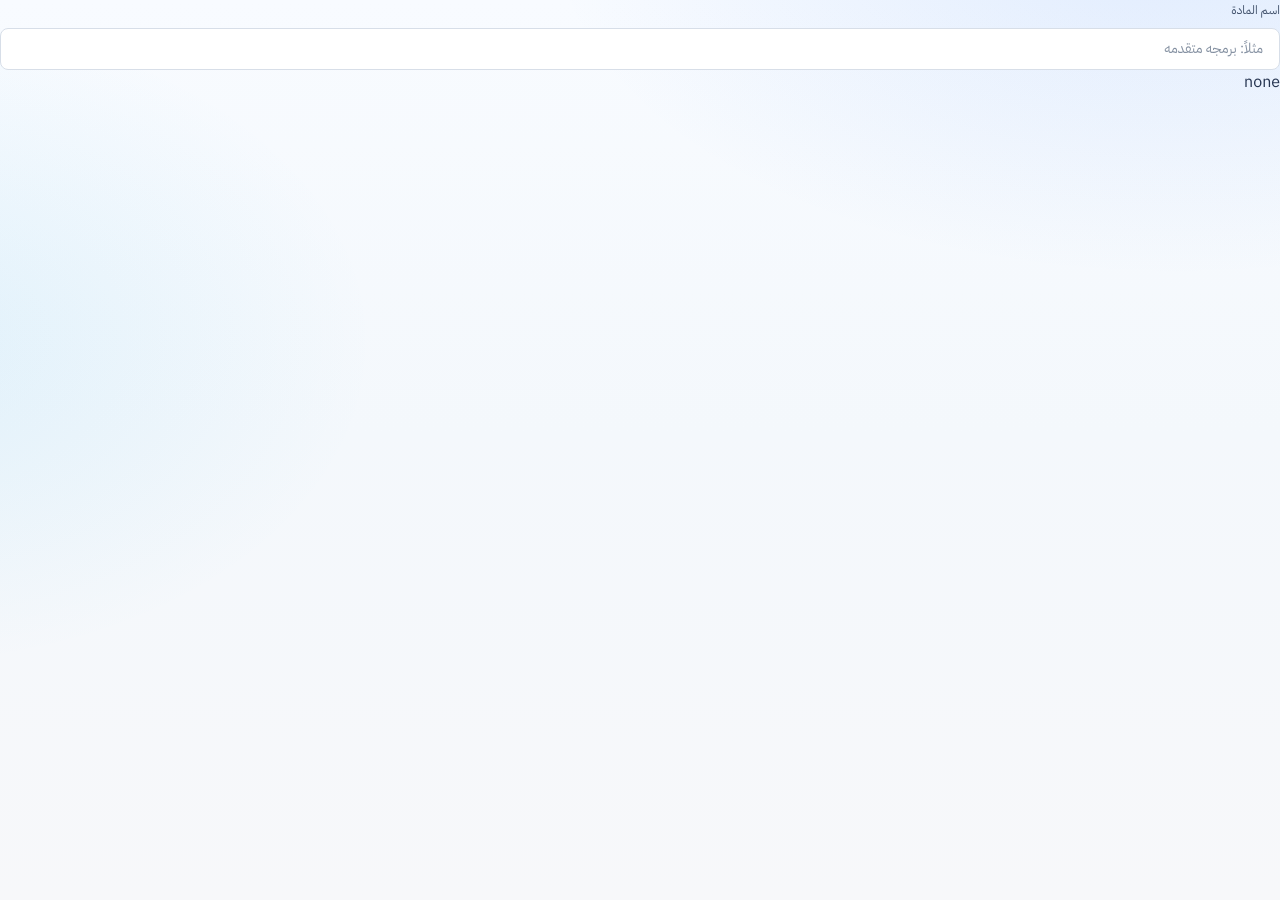
instant subject name input › supports selecting an alternative with a pointer
This screenshot has width=1280, height=900.
Type "متقدمه" into the dropdown at [640, 49], box left=0, top=28, right=1279, bottom=70
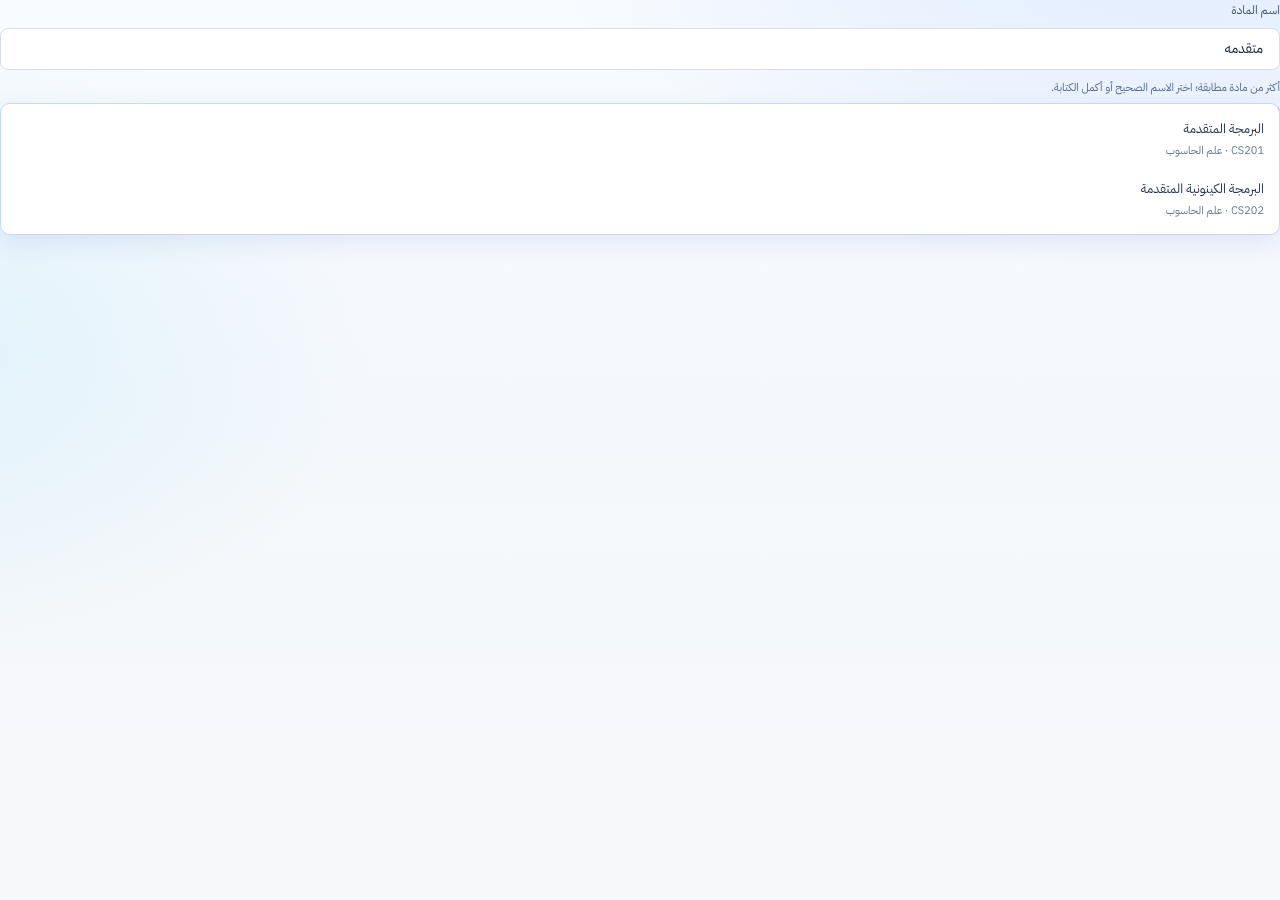
Click the option "البرمجة الكينونية المتقدمة CS202 · علم الحاسوب" at [1202, 199], box left=1141, top=179, right=1264, bottom=219
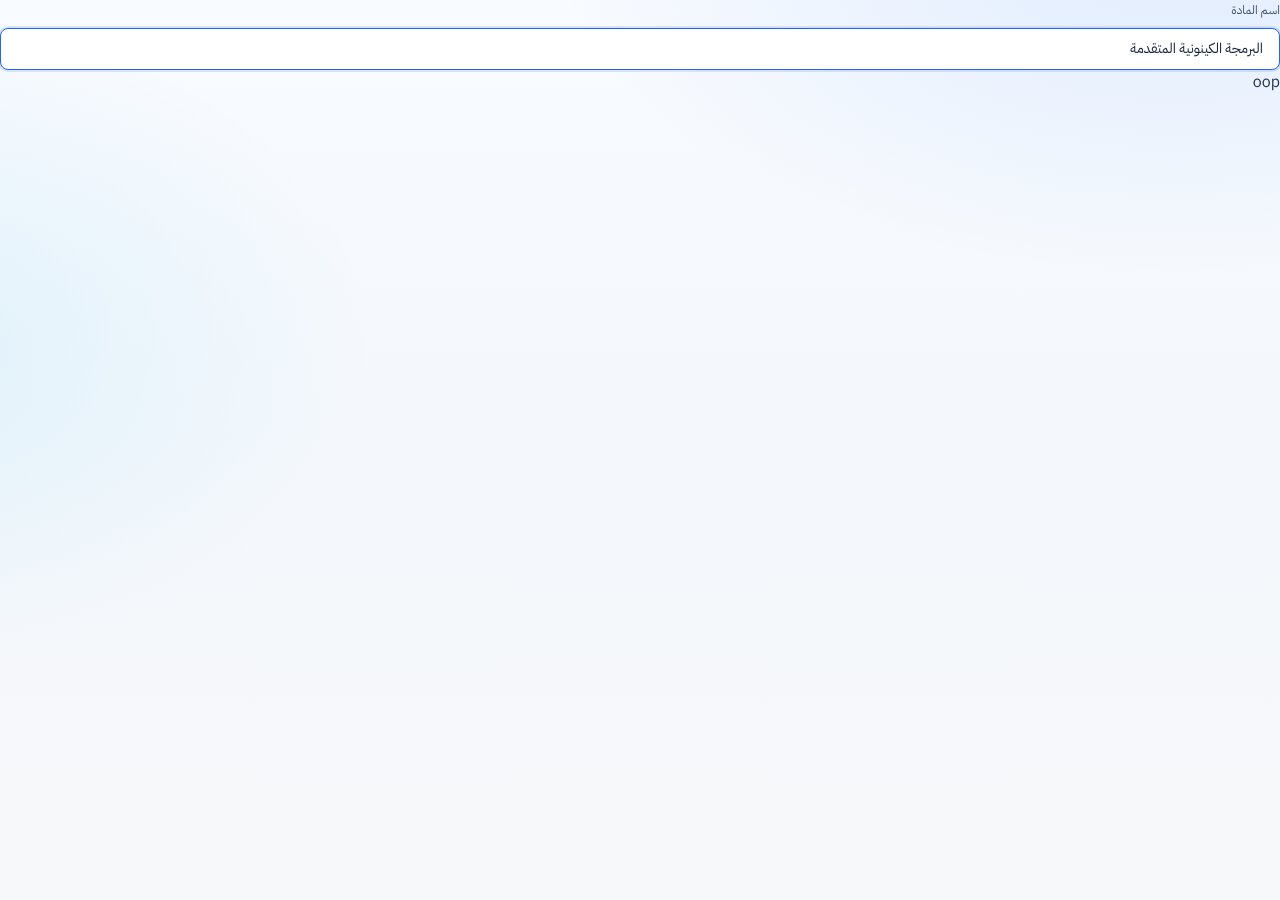
Check: the text named "المطابقة" reads "oop", box left=1253, top=70, right=1279, bottom=94
